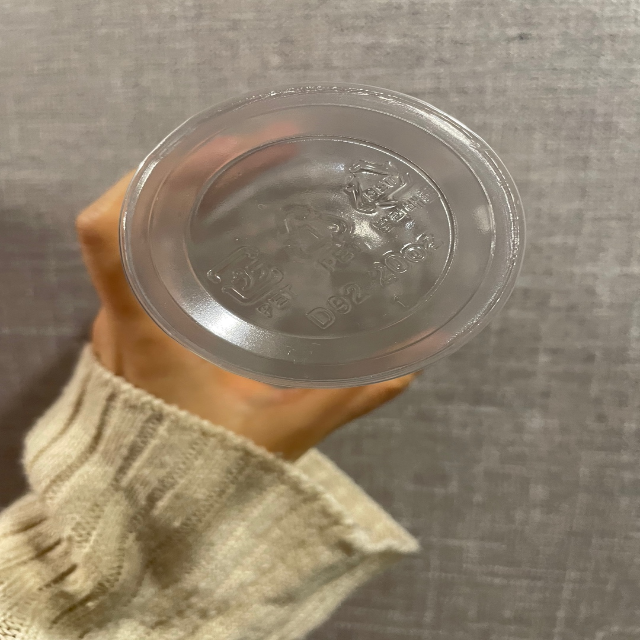pet: (342, 152, 433, 234), (202, 242, 297, 320), (274, 197, 367, 273)
